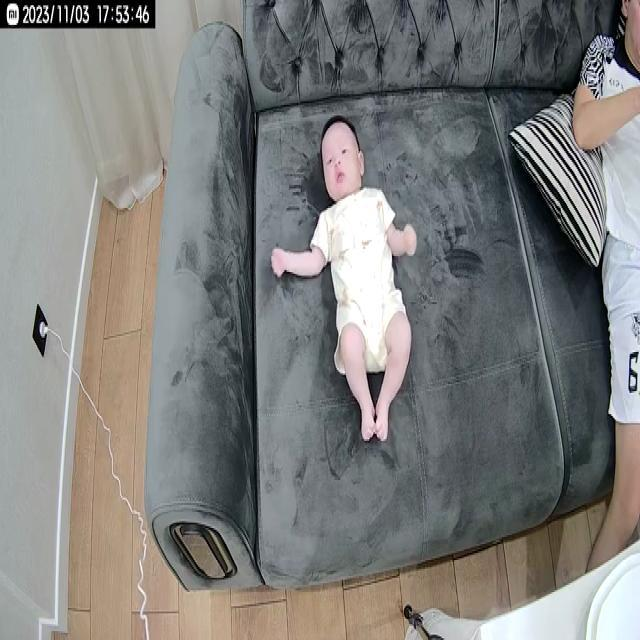baby: (270, 114, 418, 451)
